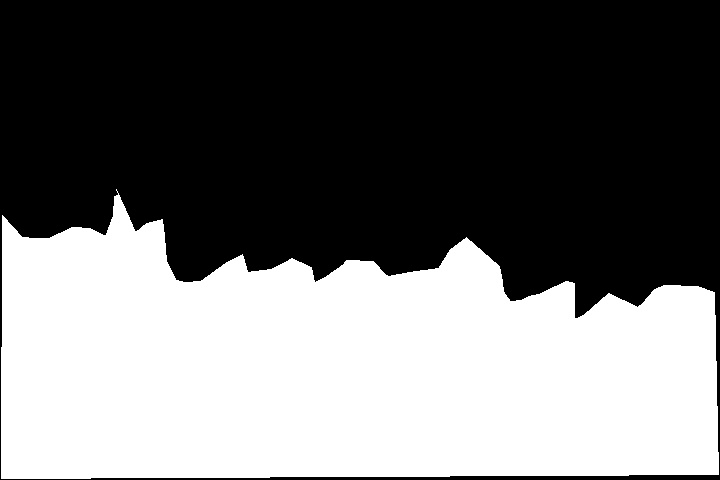Fire: (2, 295, 720, 480)
